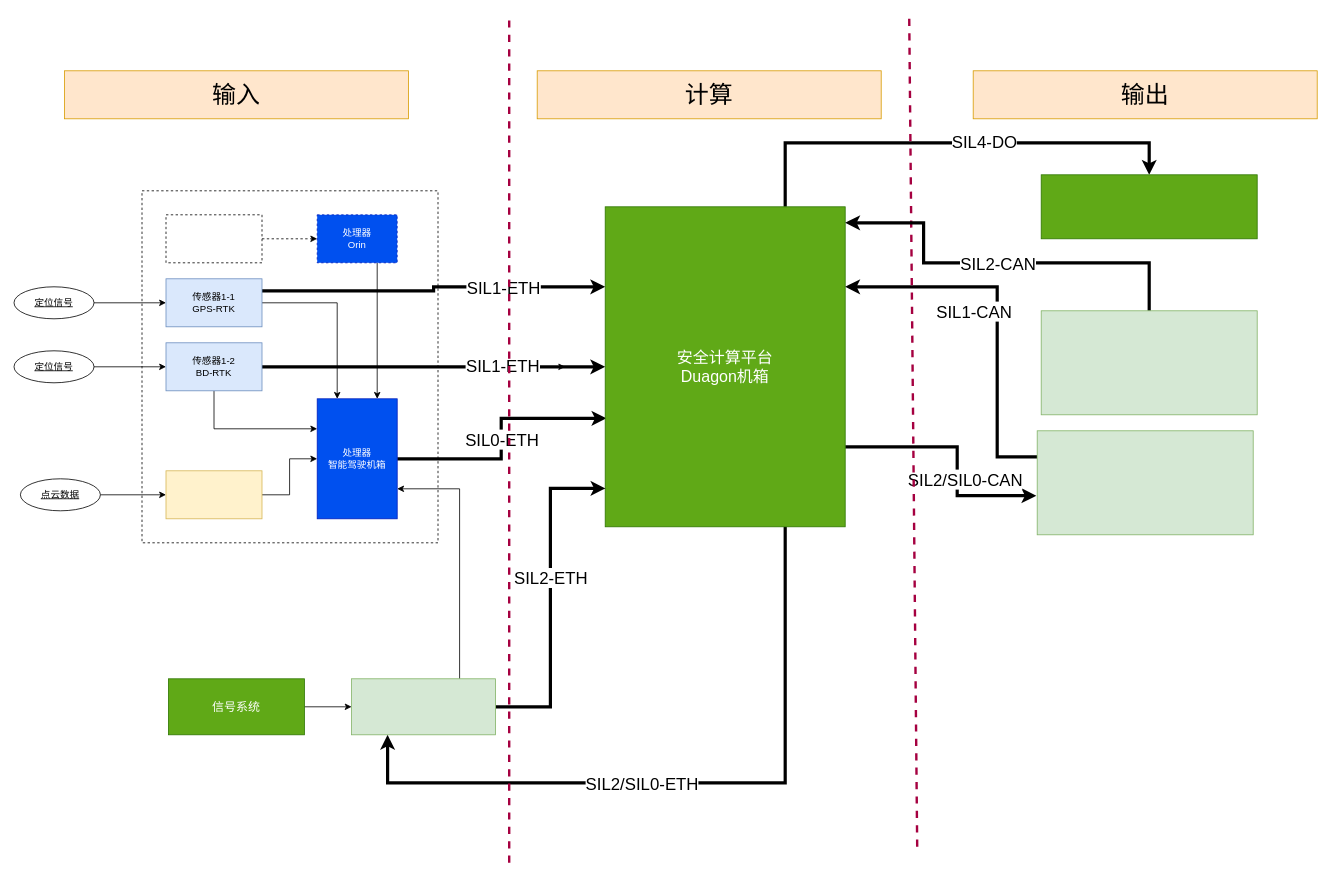
Some shapes in this 1331 by 878 pixel diagram are drawn without their labels. Each missing label, with the box of its shape:
传感器0-1 Camera 模组: (165, 214, 262, 263)
传感器2-1 机械式Lidar: (165, 470, 262, 519)
执行器1 安全制动系统: (1040, 174, 1257, 239)
执行器2 无轨导向-第一轴: (1040, 310, 1257, 415)
整车网络-VCMS: (351, 678, 496, 735)
线控转向机，要求SIL1+人工: (1036, 430, 1253, 535)
